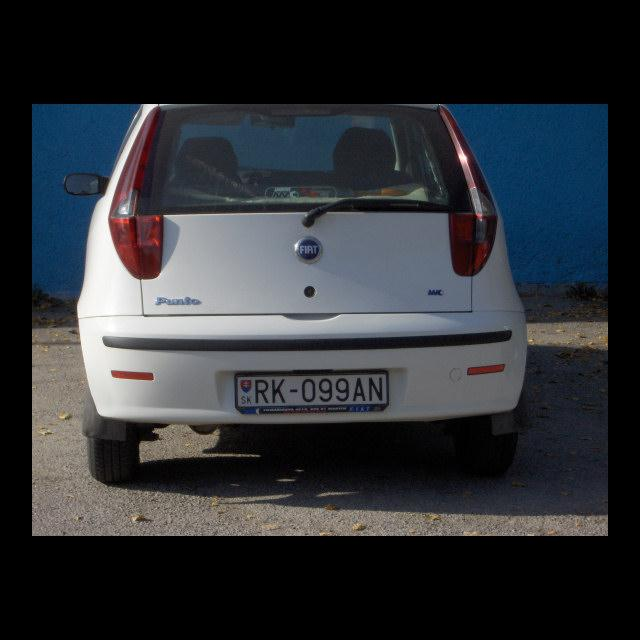Plate: (233, 368, 390, 412)
